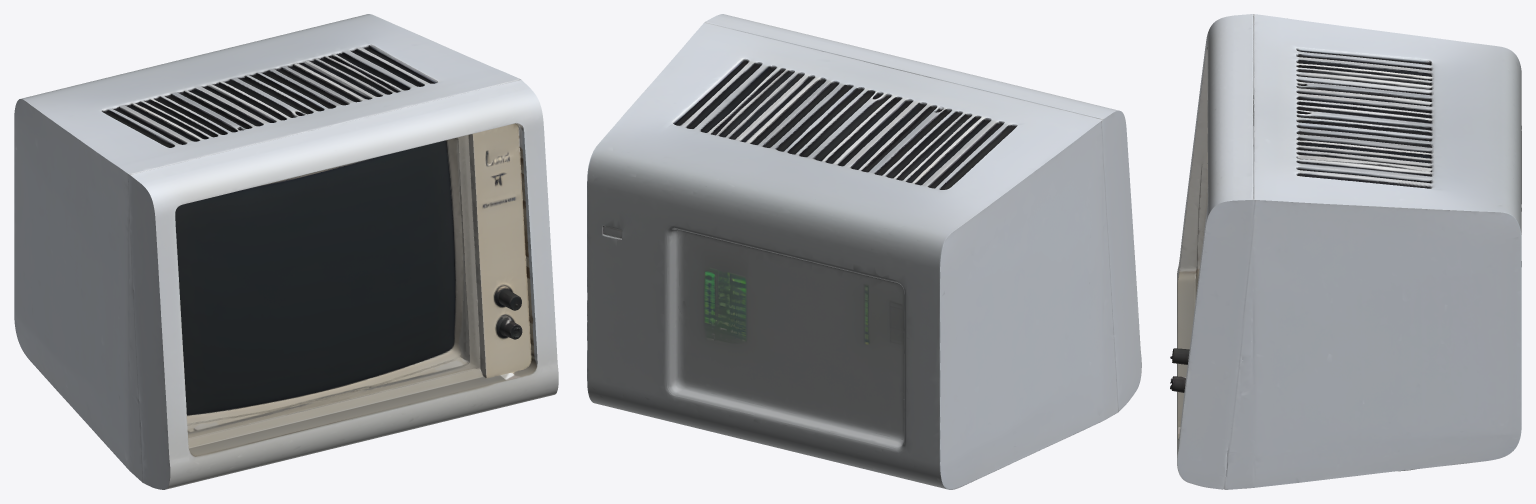
Rendered from monitor.glb.
3 renders of one model, left to right at view 1: azimuth 30°, elevation 25°; view 2: azimuth 150°, elevation 25°; view 3: azimuth 270°, elevation 25°, orthographic. The views are drawn at different scales.
Parts seen in each view (by area): view 1: model; view 2: model; view 3: model.
Boxes of the visible parts, x1=… form: model: x1=14, y1=14, x2=558, y2=489; model: x1=587, y1=14, x2=1141, y2=489; model: x1=1170, y1=14, x2=1521, y2=489.
Bounding box in the file's own units: 1.9 × 1.38 × 1.51.
Materials: 1 (1 with a texture image).
